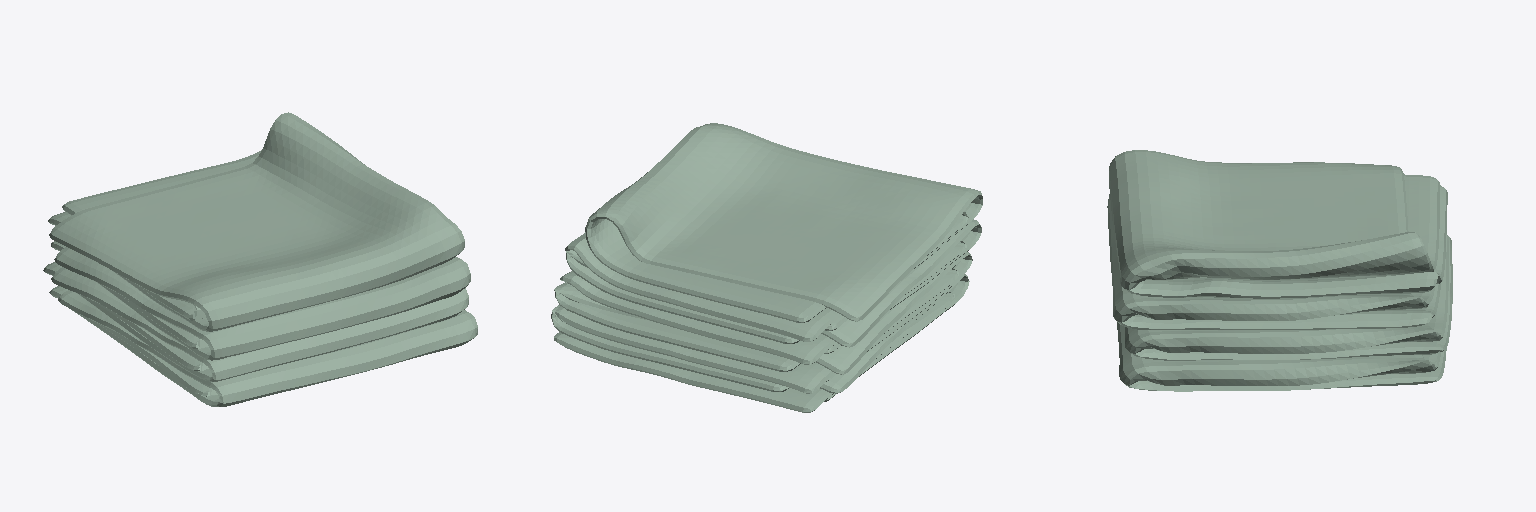
The model's file is tan4.obj.
The picture shows the model from 3 angles: view 1: azimuth 30°, elevation 25°; view 2: azimuth 150°, elevation 25°; view 3: azimuth 270°, elevation 25°; orthographic projection.
Visible parts, largest first — view 1: file.008; view 2: file.008; view 3: file.008.
Part boxes in pixels (x1,y1,x2,y2): file.008: (43, 112, 477, 406); file.008: (551, 123, 982, 412); file.008: (1107, 150, 1452, 391).
Size of the model in its own units: 1.5 by 0.6659 by 1.5.